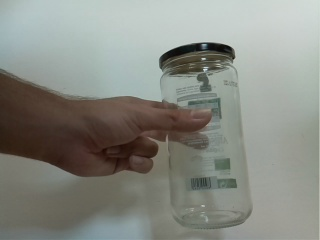pote cristal: (157, 41, 258, 231)
